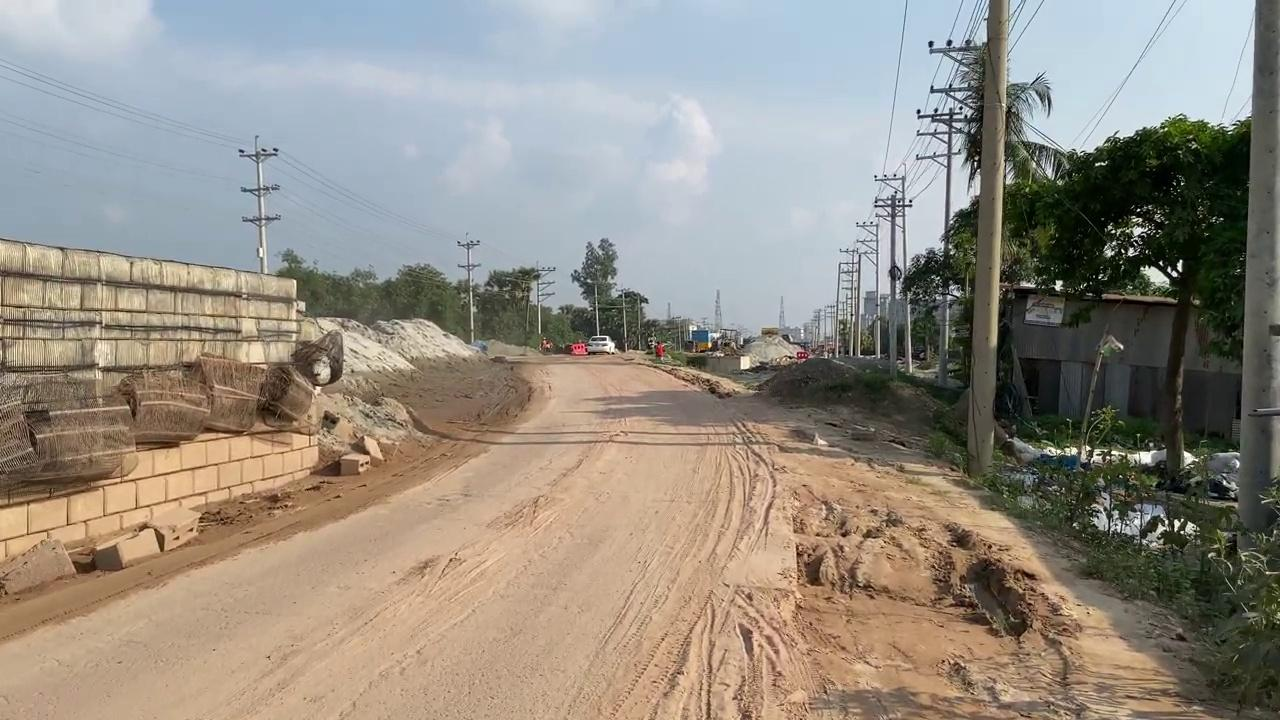Car: (586, 335, 616, 355)
Garbage: (0, 327, 343, 495)
Muddy road: (1, 347, 1254, 718)
Obstacle: (91, 504, 200, 571)
Pole: (1234, 0, 1279, 553), (964, 0, 1010, 479)
Rickshaw: (646, 353, 1243, 718)
Traffic-sign: (996, 111, 1252, 485), (569, 236, 618, 337)
Tree: (688, 327, 743, 355), (690, 328, 712, 353), (541, 336, 553, 354)
Upstairs: (0, 236, 326, 565)
